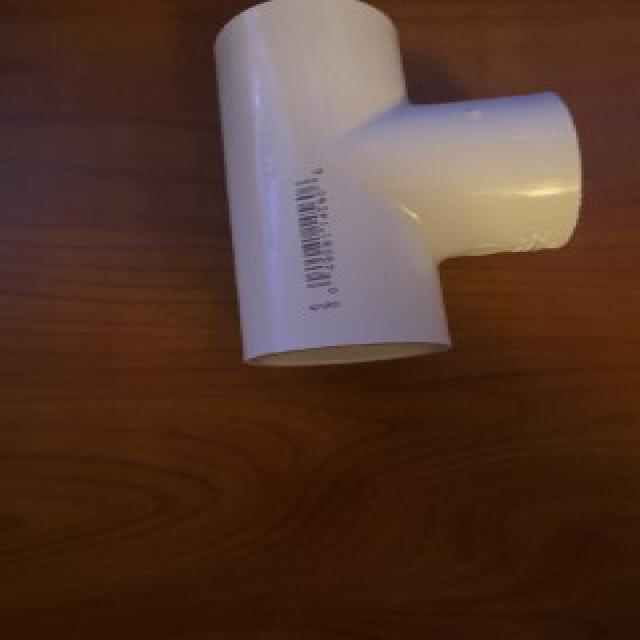T Joint: (212, 0, 583, 371)
